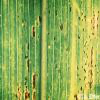Corn rust leaf: (0, 0, 100, 94)
